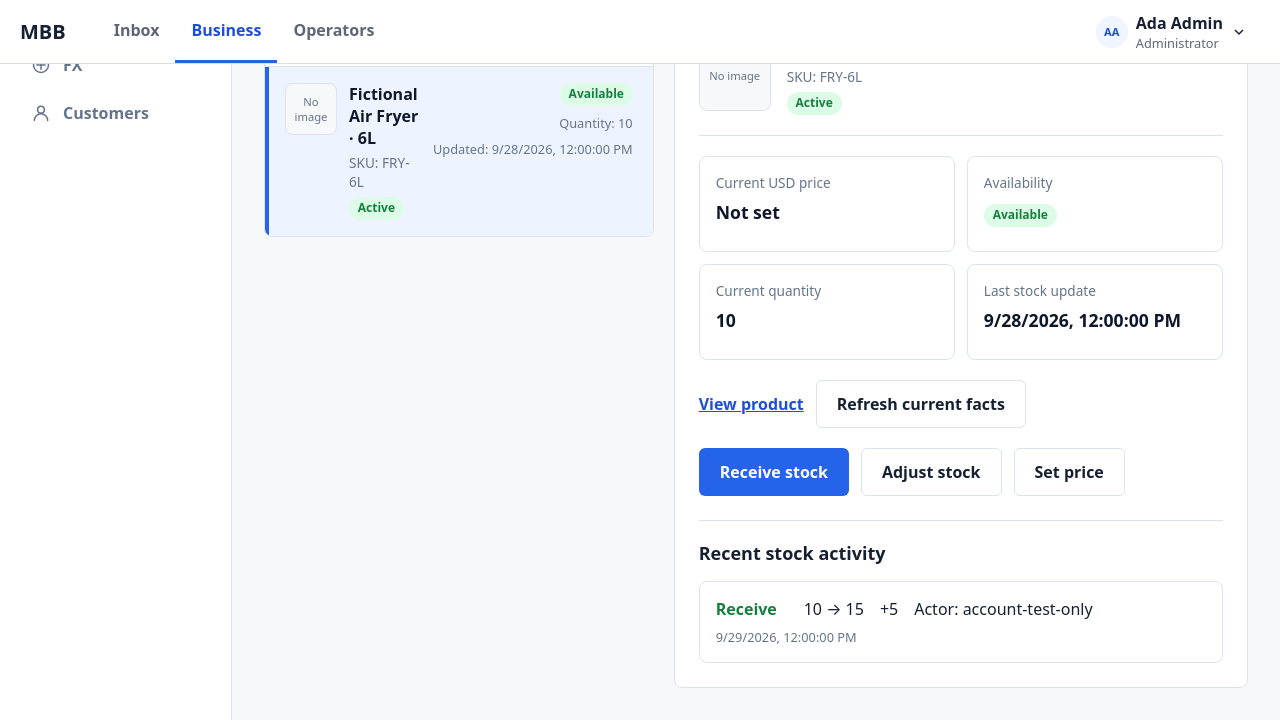
Test: Business Stock › keeps the price form through reauthentication and blocks a retry until uncertain price is reread
(page scrolled)
Click the button "Set price": (1069, 472) 1014,448 -> 1125,496
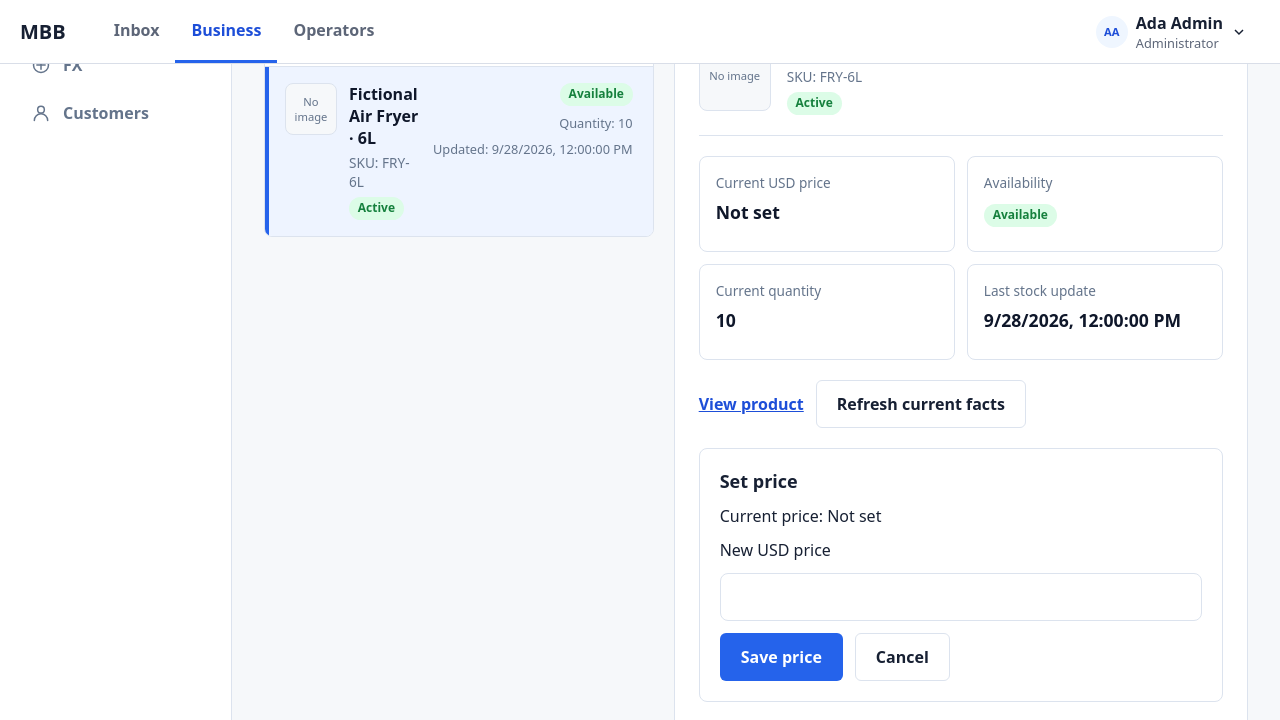
In the field labelled "New USD price": (961, 597) 720,573 -> 1202,621, type "42.00"
Click the button "Save price": (781, 657) 720,633 -> 843,681
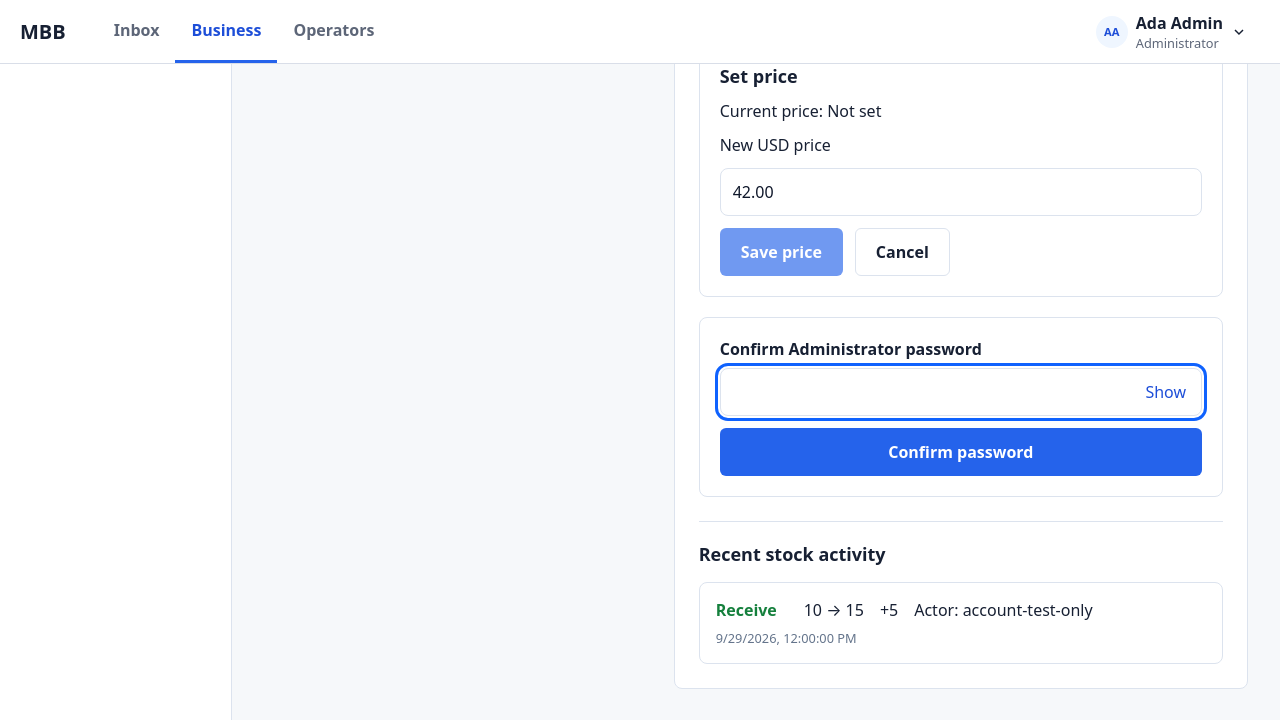
In the password field labelled "Confirm Administrator password": (961, 392) 720,368 -> 1202,416, type "Administrator-Access-42!"
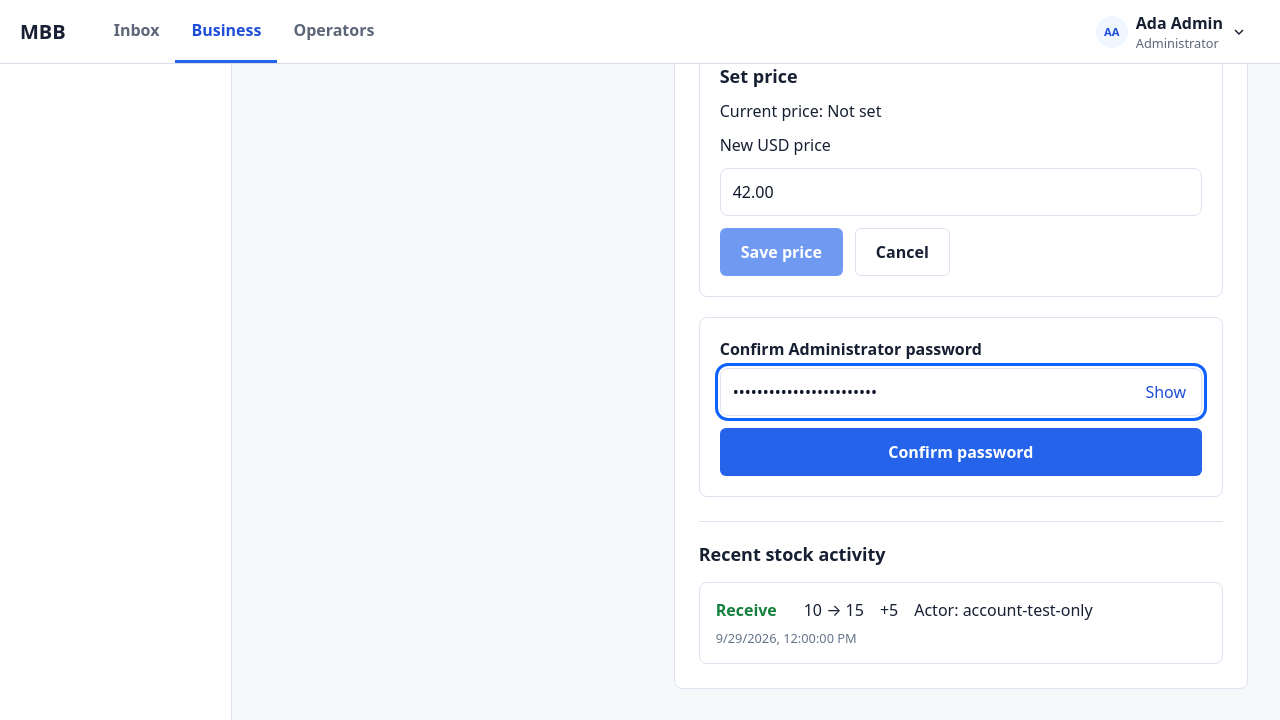
Click the button "Confirm password": (961, 452) 720,428 -> 1202,476
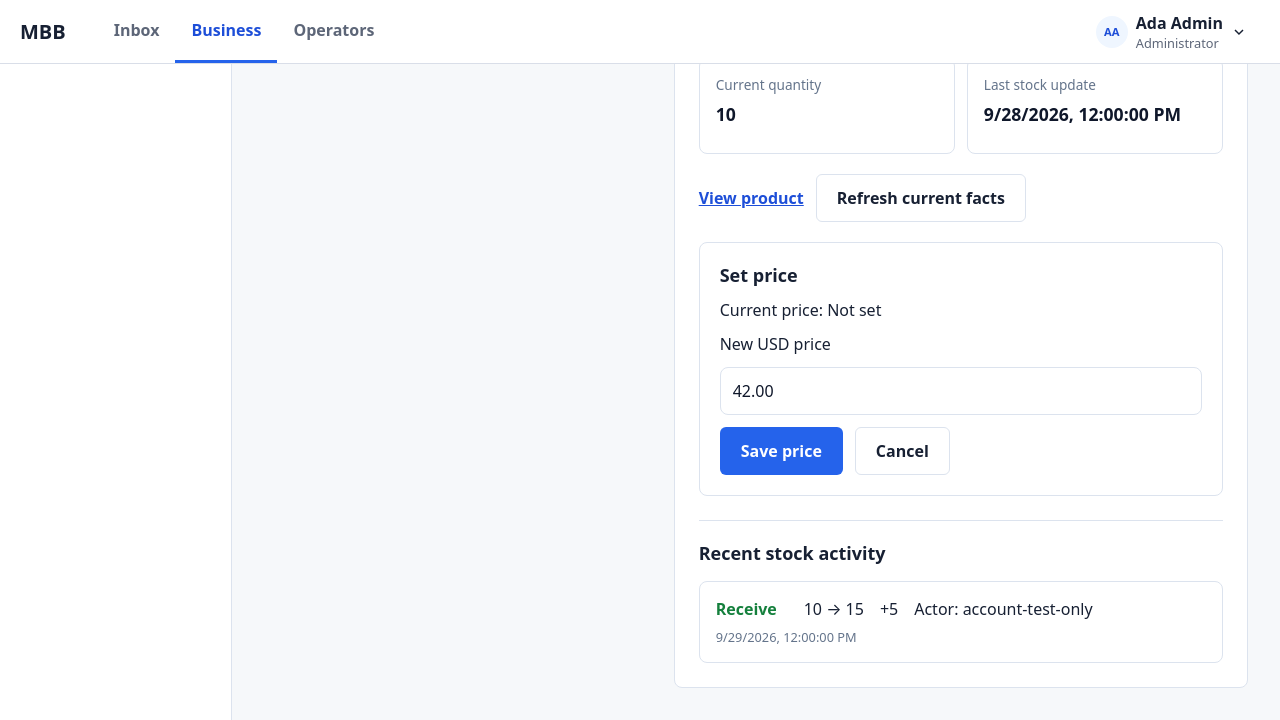
Click the button "Save price": (781, 451) 720,427 -> 843,475
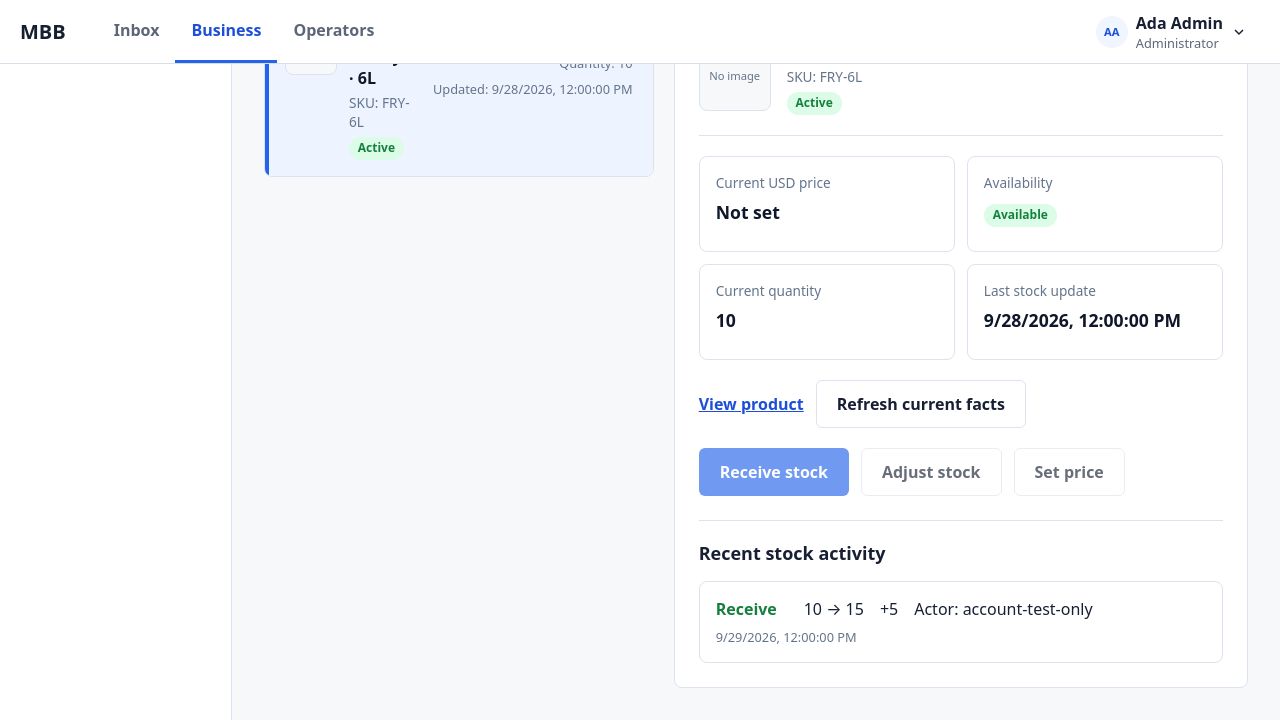
Expected: the button "Adjust stock" is disabled, 861,448 -> 1002,496
Click the button "Refresh current facts": (921, 404) 816,380 -> 1026,428
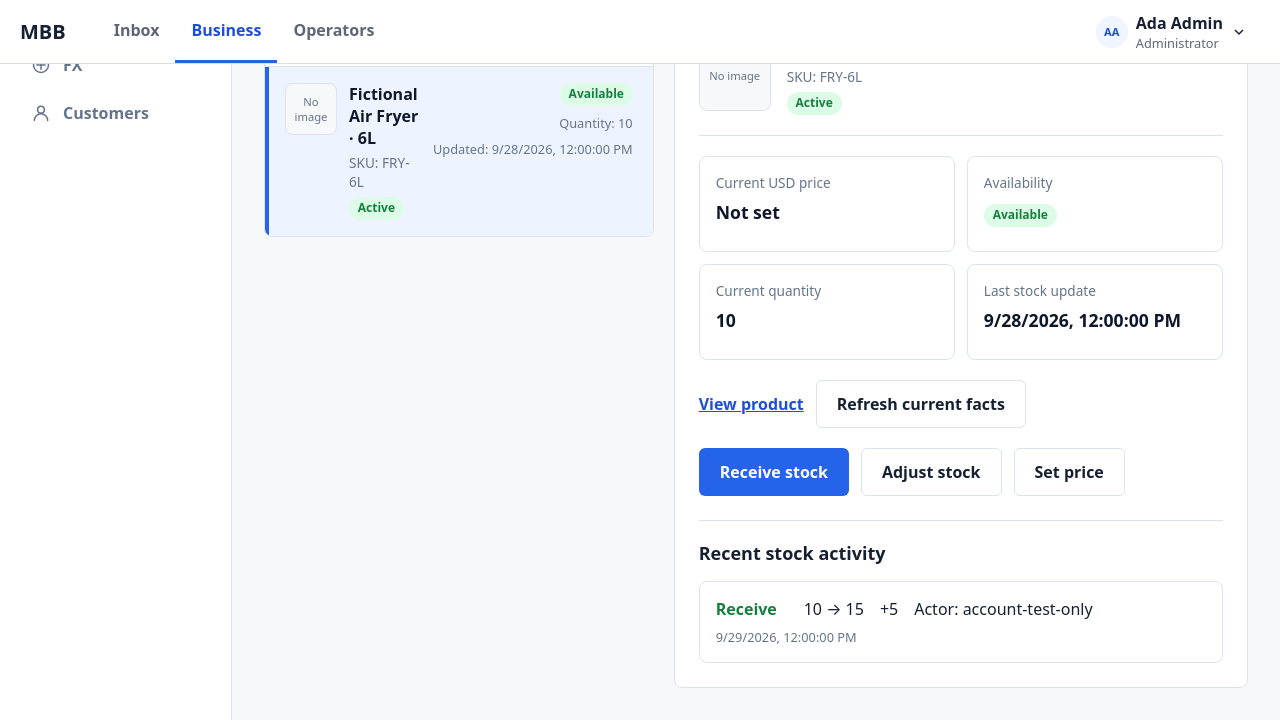
Expected: the button "Adjust stock" is enabled, 861,448 -> 1002,496
